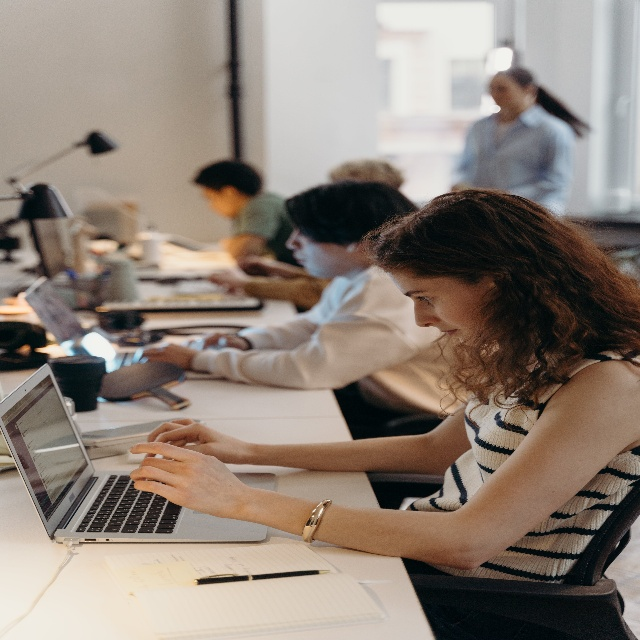Sin_guantes: (127, 441, 245, 515), (147, 415, 243, 464), (139, 342, 193, 369), (185, 330, 242, 344)
